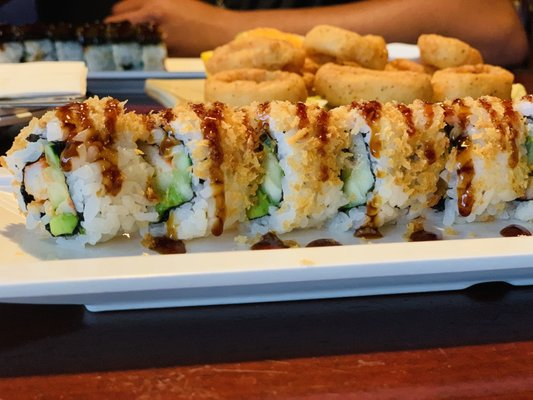pizza: (103, 0, 530, 57)
